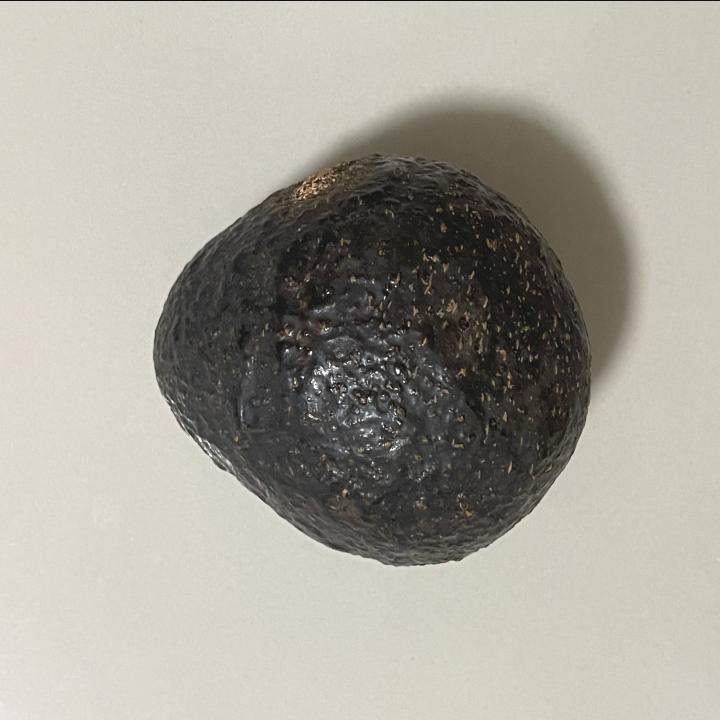Level3: (147, 146, 598, 576)
